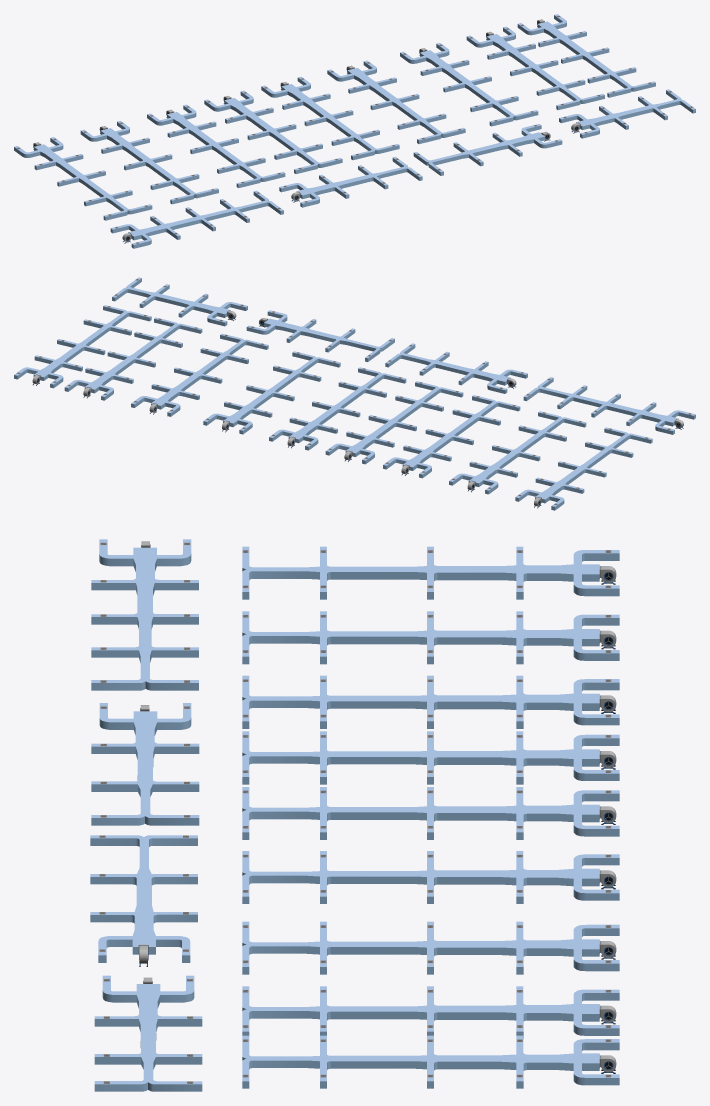
Rendered from LXWZ_2_1F_FG.glb.
3 renders of one model, top to bottom at view 1: azimuth 30°, elevation 25°; view 2: azimuth 150°, elevation 25°; view 3: azimuth 270°, elevation 25°, orthographic. The views are drawn at different scales.
Size of the model in its own units: 77.21 by 1.03 by 31.69.
Materials: 4 (2 with a texture image).
